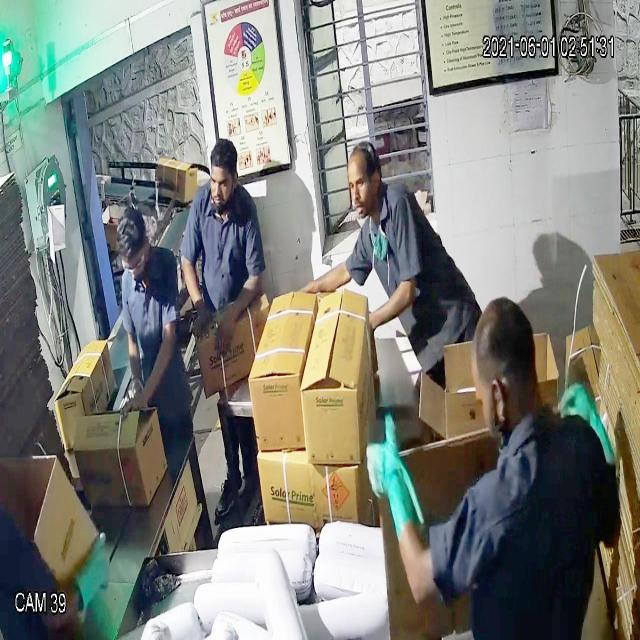glasses: (119, 246, 151, 284)
no-glass: (343, 166, 387, 203)
